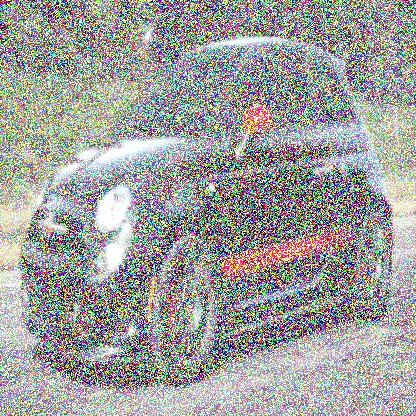Vehicle: (20, 39, 394, 387)
